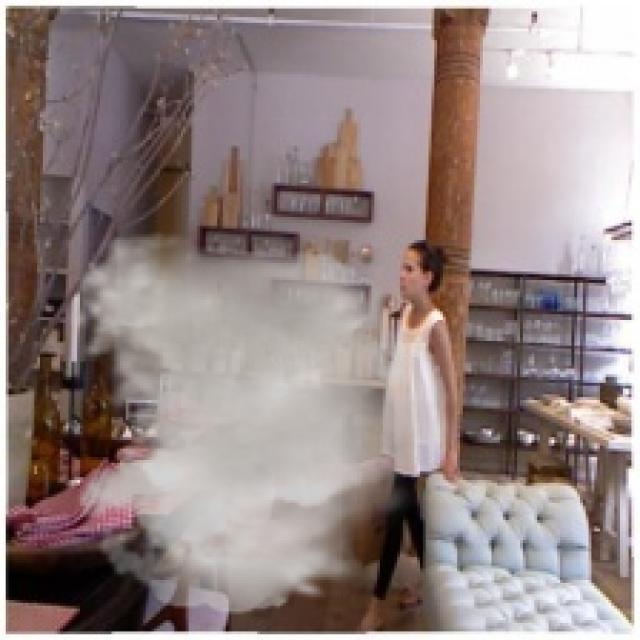Smoke: (63, 232, 463, 614)
